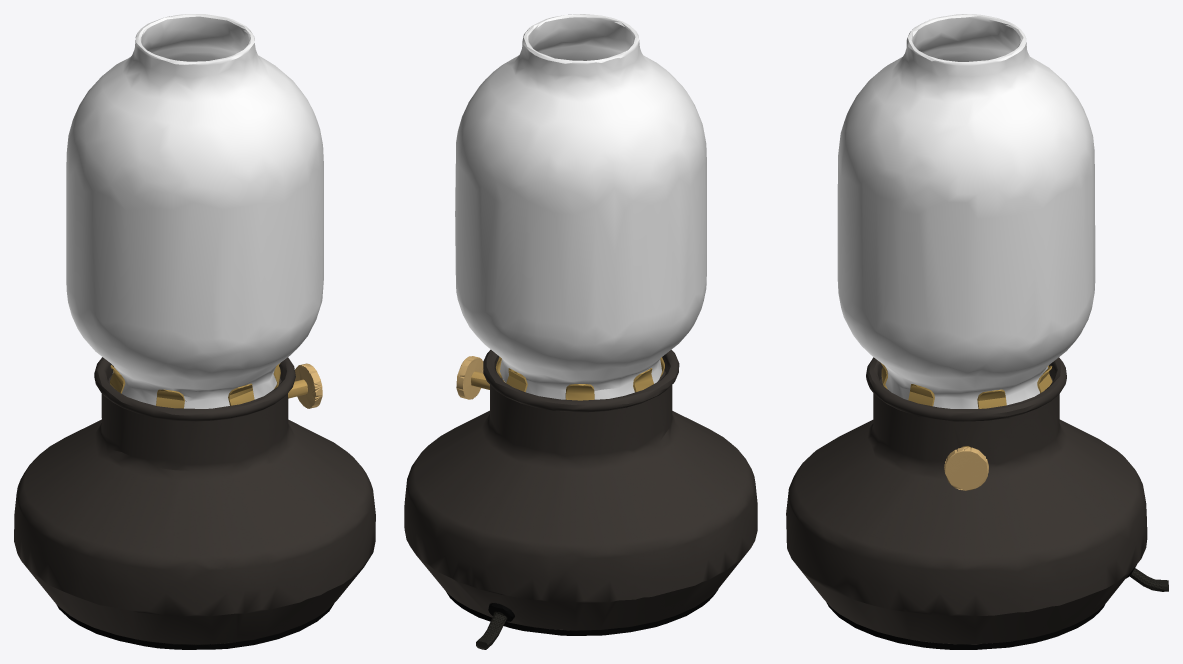
Rendered from TÄRNABY table lamp.glb.
3 renders of one model, left to right at view 1: azimuth 30°, elevation 25°; view 2: azimuth 150°, elevation 25°; view 3: azimuth 270°, elevation 25°, orthographic. The views are drawn at different scales.
Visible parts, largest first — view 1: ProcessedMeshNode; view 2: ProcessedMeshNode; view 3: ProcessedMeshNode.
Boxes of the visible parts, <box> form: ProcessedMeshNode: <box>14,14,375,649</box>; ProcessedMeshNode: <box>404,14,757,649</box>; ProcessedMeshNode: <box>786,14,1168,649</box>.
Bounding box in the file's own units: 0.1458 × 0.2455 × 0.1544.
Materials: 2 (2 with a texture image).
